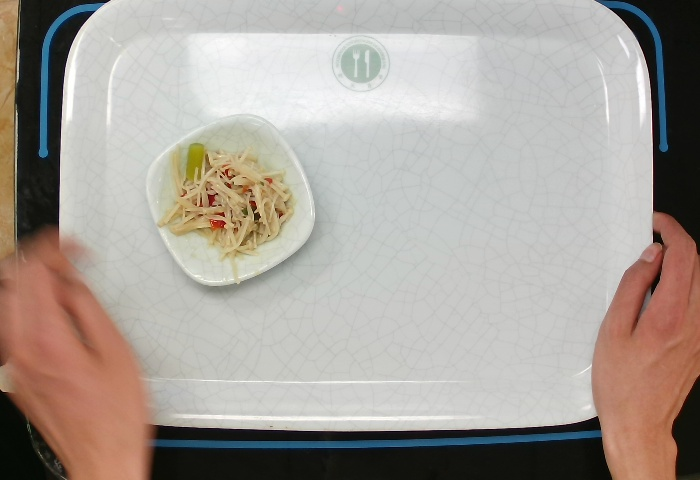JYsf-Si_Fang_Die: (141, 112, 317, 288)
